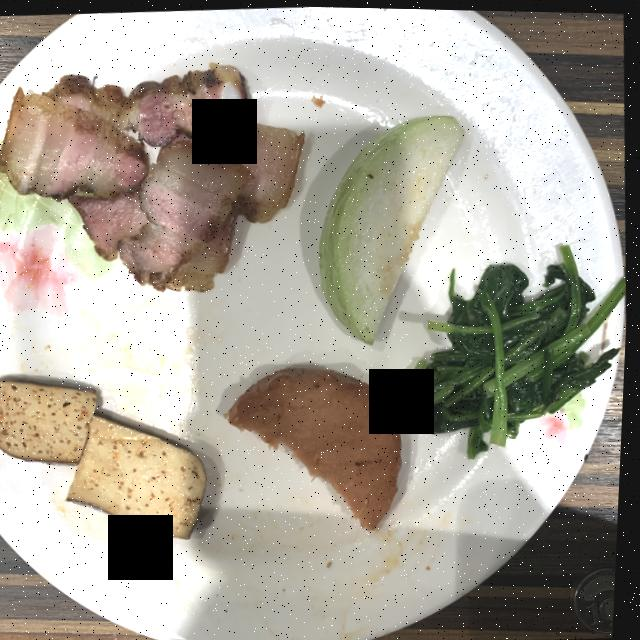Spam: (230, 366, 406, 528)
coin: (578, 566, 621, 631)
firm tofu: (0, 379, 211, 538)
grilled pork: (0, 62, 306, 290)
guava -sliced-: (321, 113, 465, 342)
mustard greens: (405, 242, 629, 456)
